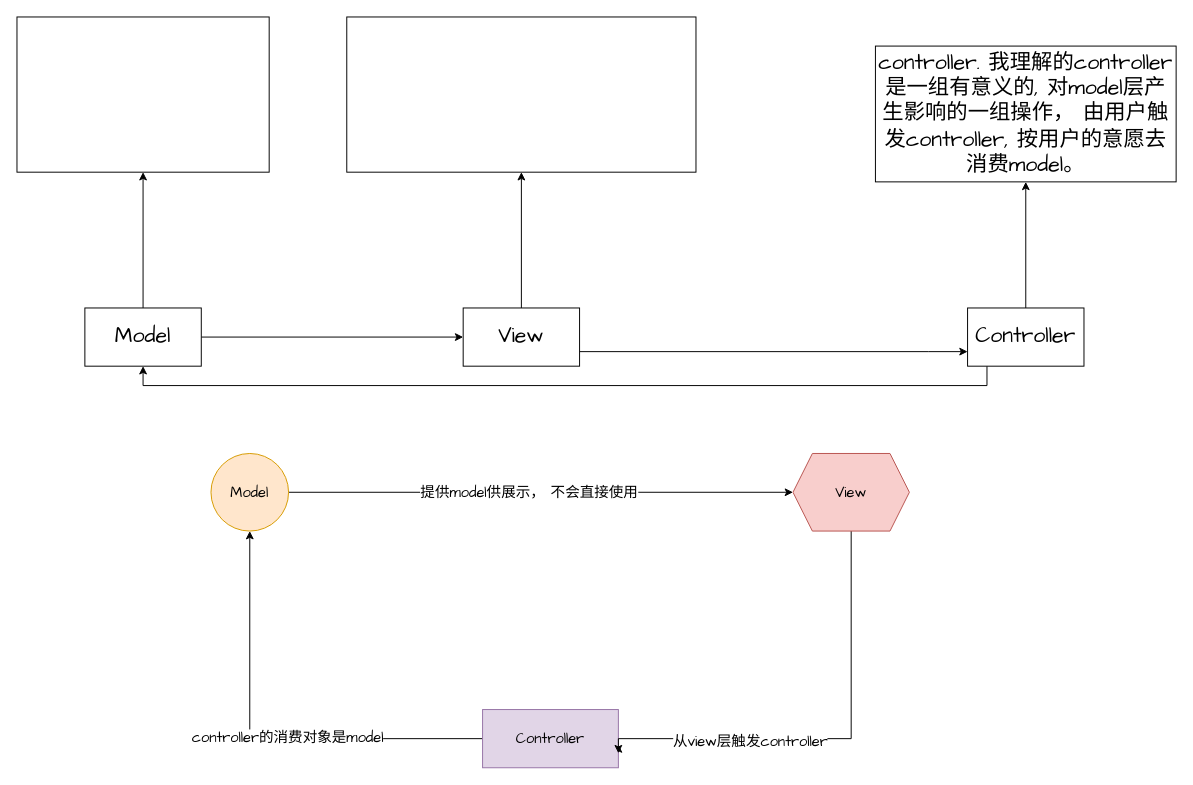
The diagram is 1193 pixels wide and 785 high, and some of its shapes have lost their labels. Here are the shapes that lost their labels. From the top down, the box of each, then its label:
(16, 16, 269, 172): 整个业务的模型， 我理解相对于其他的v和c来说，相对静态，较少的变化，model层的设计要易于扩展和收缩
(346, 16, 696, 172): 视图层，我理解view其实担任一个渲染引擎的职能。挂载controller, 通过事件交互， 触发不同的controller。负责管理controller.
